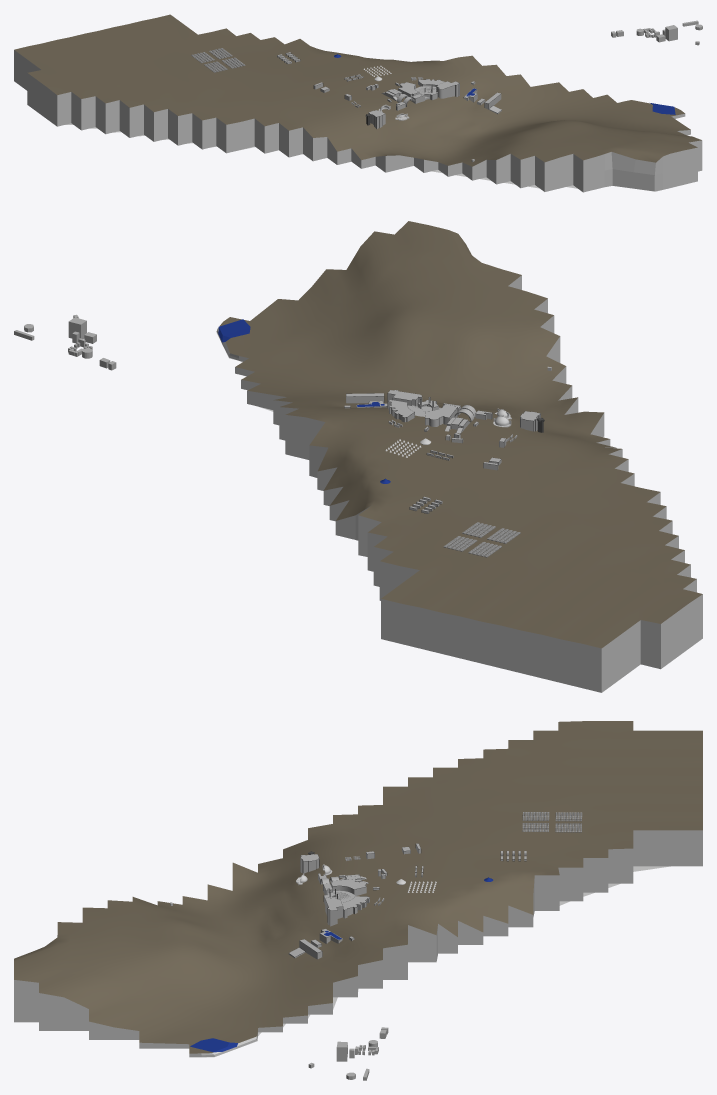
The model's file is Form Festival 2026_031926_02.obj.
The picture shows the model from 3 angles, top to bottom: view 1: azimuth 30°, elevation 25°; view 2: azimuth 150°, elevation 25°; view 3: azimuth 270°, elevation 25°; orthographic projection. The views are drawn at different scales.
Visible parts, largest first — view 1: Terrain_Base, map.osm_buildings, PF_Pickup_Low, map.osm_buildings.007; view 2: Terrain_Base, PF_Pickup_Low, map.osm_buildings; view 3: Terrain_Base, PF_Pickup_Low, map.osm_buildings.
Boxes of the visible parts, x1,y1,x2,y2 form: Terrain_Base: (14,14,702,192); map.osm_buildings: (611,20,702,45); PF_Pickup_Low: (191,48,245,72); map.osm_buildings.007: (436,81,459,98); Terrain_Base: (216,221,702,692); PF_Pickup_Low: (443,522,520,557); map.osm_buildings: (14,314,116,370); Terrain_Base: (14,721,702,1057); PF_Pickup_Low: (522,812,582,832); map.osm_buildings: (308,1027,388,1080).
Bounding box in the file's own units: 1013 × 60.36 × 851.
